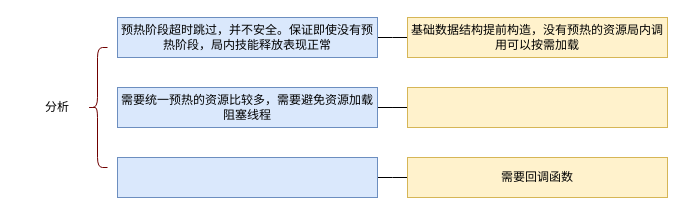
Some shapes in this 685 by 215 pixel diagram are drawn without their labels. Each missing label, with the centre of its shape:
异步加载: (x=537, y=107)
需要标记当前TaskBase结束: (x=247, y=177)
